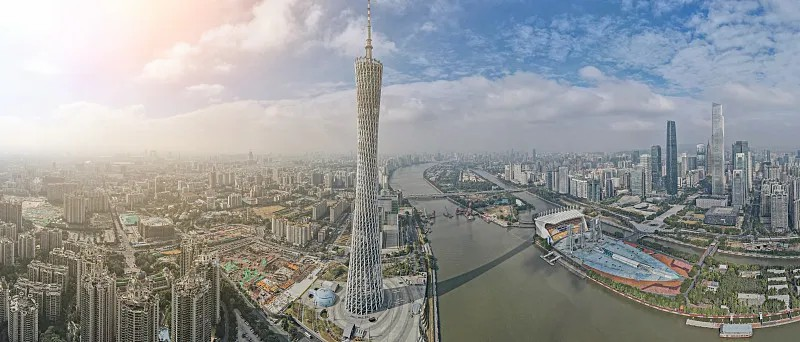Canton: (345, 3, 386, 316)
